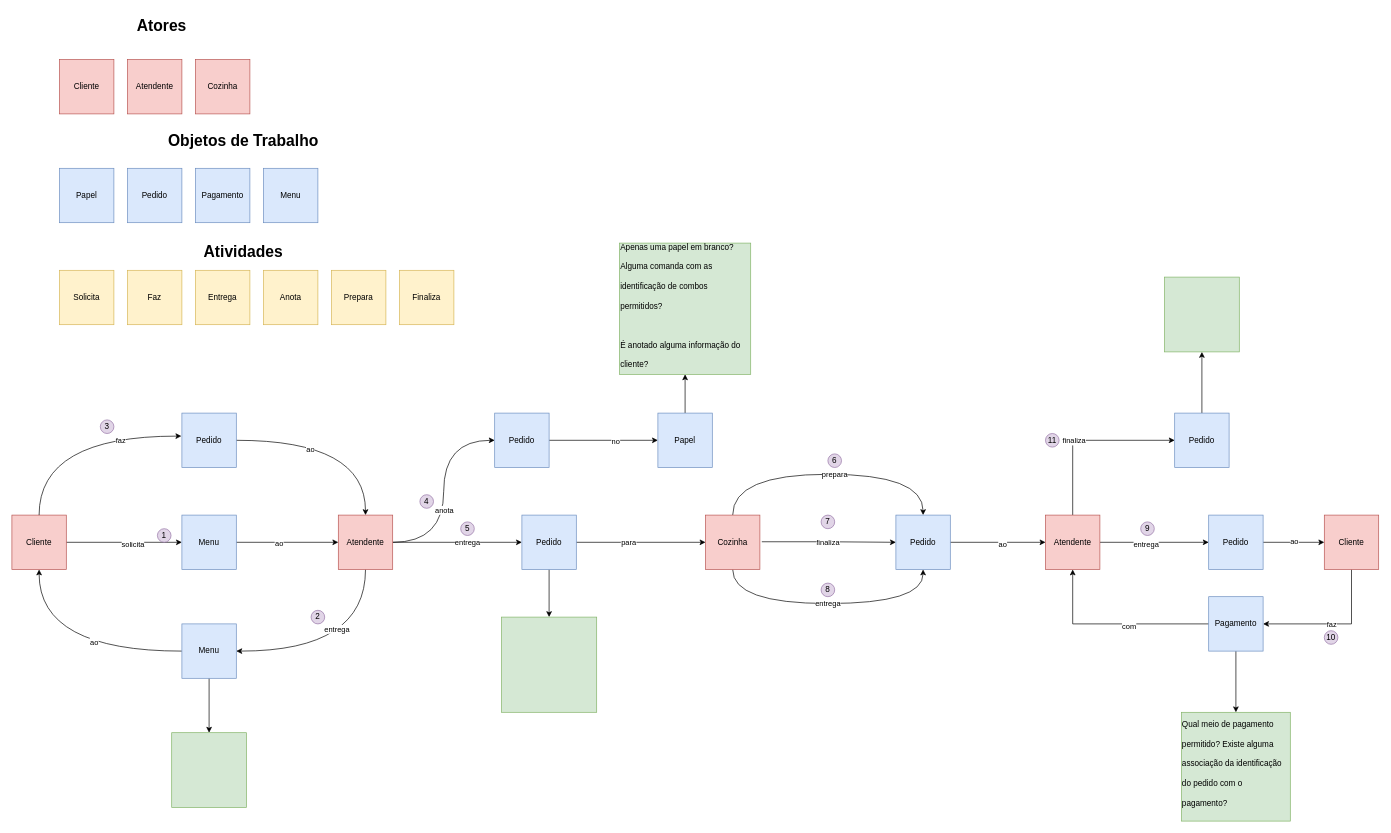
Image size: 1391x833. Some labels were removed from this diagram. Here are the shapes that lost their labels. From the top down, the centre of each, then its label:
[1201,314]: Como é realizado a identificação do pedido para finaliza-lo?
[549,664]: Como é a organização da precedência dos pedidos recebidos?
[209,770]: Qual tipo de menu, Digital ou físico?
